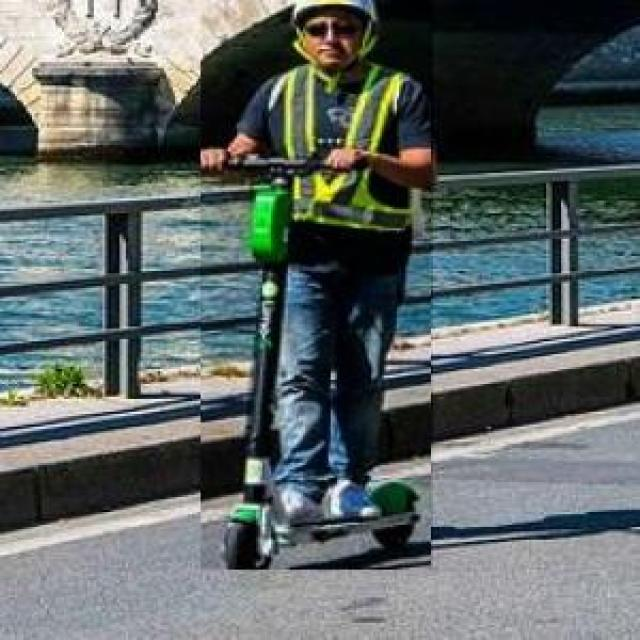pedestrian: (203, 0, 435, 570)
